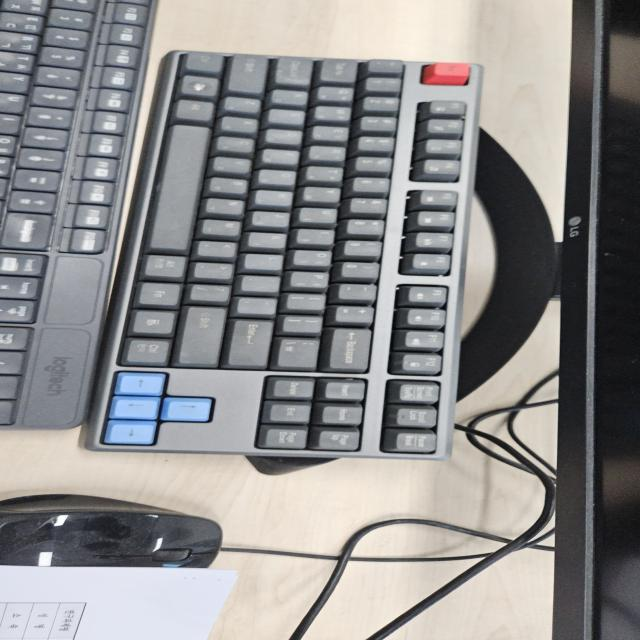Keyboard: (80, 48, 482, 461)
Mouse: (2, 492, 226, 569)
